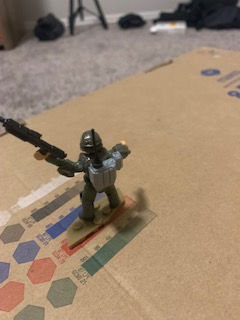soldier: (1, 113, 132, 226)
